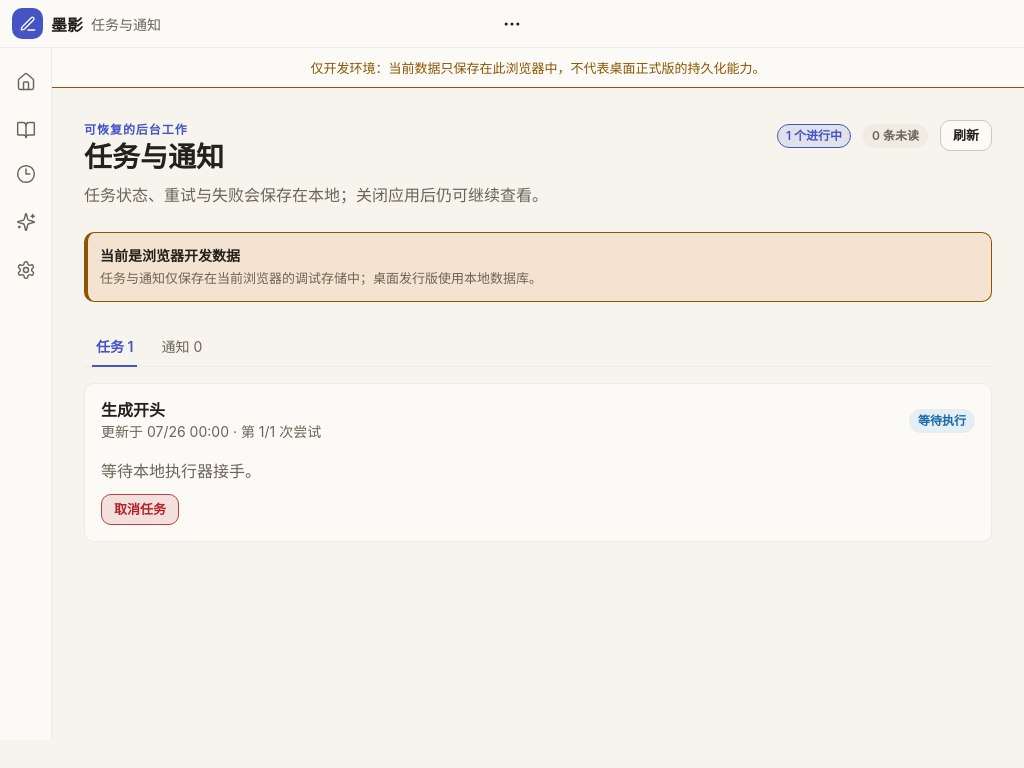
Test: TaskCenterPage › uses the authoritative prose_generation identity in every task-center surface
Check: the heading "生成开头" is shown, box [101,400,165,420]
Click the button "取消任务" at (140, 510), box [101,494,179,525]
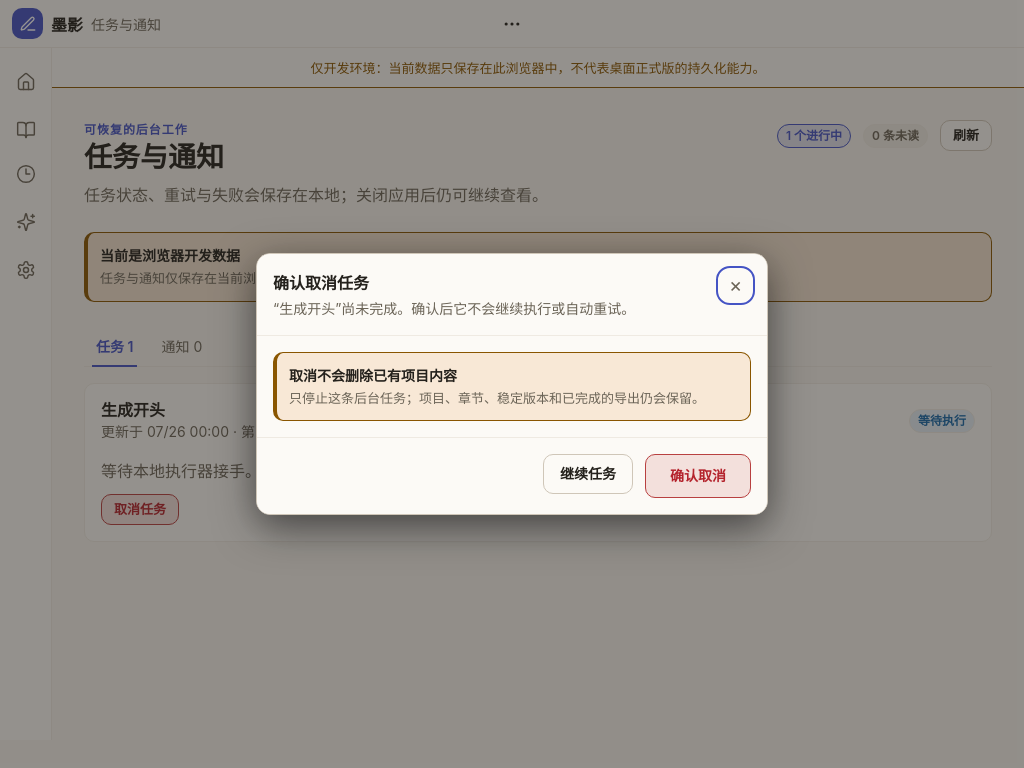
Check: the dialog "确认取消任务" shows "生成开头", box [273,300,635,317]
